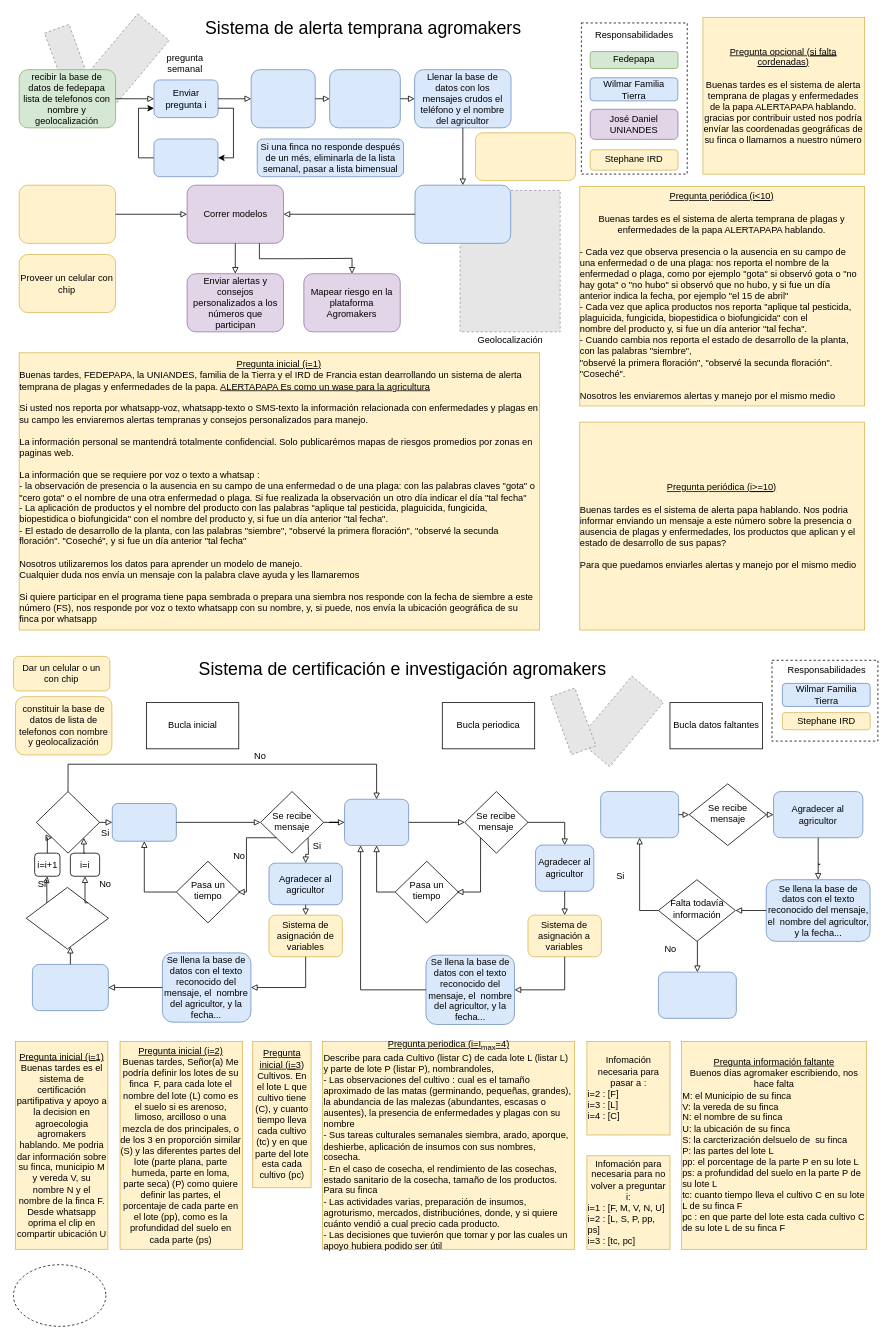
This 892x1340 diagram has some shape labels left out. Grey dashed boxes stand in for pictures. Each missing label, with the centre of its shape:
Cada semana i = i + 1: [185,157]
Cada semana, enviar pregunta información faltante: [639,814]
Enviar pregunta inicial i: [143,822]
Enviar pregunta periodica: [376,821]
Extraer la información de presencia de plagas estado de la vegetación y manejo: [462,213]
Generar en concertación el sistema de asignación de variables: [525,156]
i<I max: [68,822]
La informacion necesaria para pasar a i+1 esta: [66,918]
recibir información climática de sensores agromakers e IDEAM: [67,213]
Recibir mensajes voz o texto en un teléfono dedicado: [282,98]
Salir de esta bucla: [697,994]
Se reconoce la información para pasar a la pregunta i+1: [70,987]
transcribir voz en el teléfono: [364,98]
